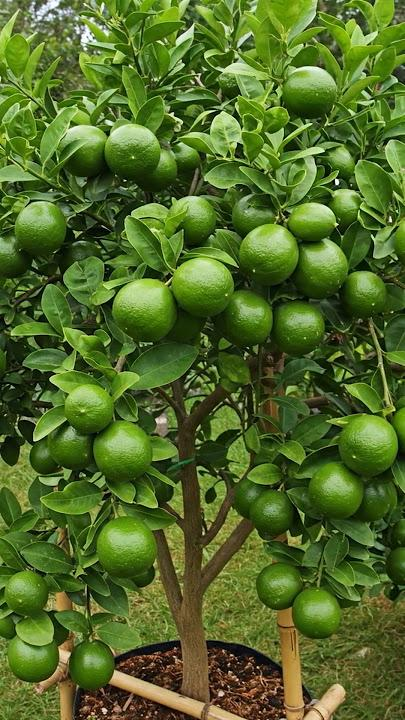lime: (107, 272, 175, 351), (96, 513, 161, 585), (173, 253, 239, 320), (236, 220, 301, 288), (336, 412, 403, 474), (99, 120, 162, 183), (276, 63, 340, 119), (307, 460, 362, 524), (93, 420, 150, 481), (290, 579, 343, 642), (10, 199, 67, 257), (341, 266, 395, 326), (271, 297, 325, 356), (7, 630, 61, 689), (64, 380, 114, 435), (70, 637, 115, 697), (253, 489, 299, 540)
